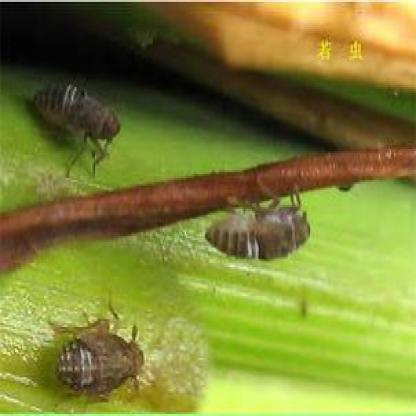brown-planthopper: (54, 324, 146, 388), (205, 206, 313, 260), (31, 84, 118, 146)
